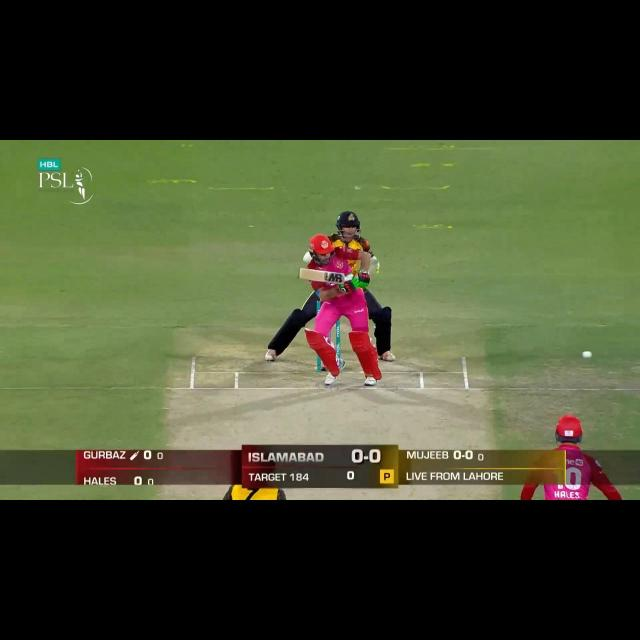bat: (297, 267, 346, 286)
toe: (296, 267, 308, 280)
